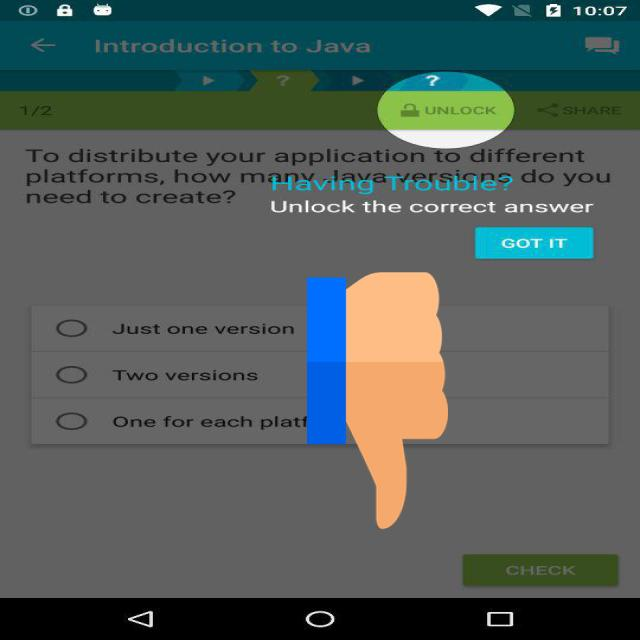obstruction: (307, 266, 448, 535)
